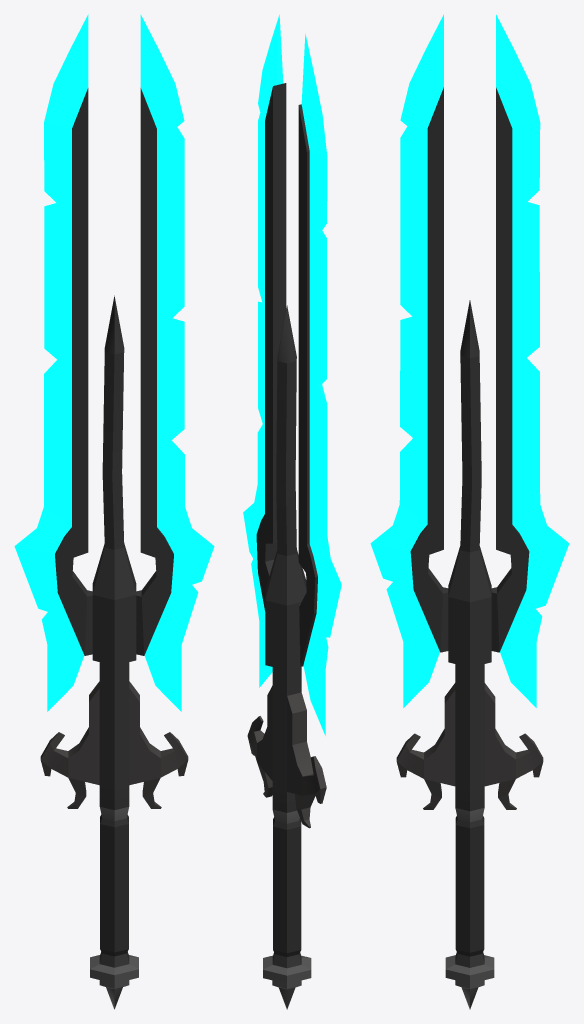
The model's file is SM_Weapon_Crystal_DoubleSword.fbx.
3 views of the same model, side by side, from view 1: azimuth 90°, elevation 25°; view 2: azimuth 210°, elevation 25°; view 3: azimuth 270°, elevation 25° (orthographic).
Parts seen in each view (by area): view 1: SM_Wep_Crystal_DoubleSword_01; view 2: SM_Wep_Crystal_DoubleSword_01; view 3: SM_Wep_Crystal_DoubleSword_01.
Part boxes in pixels (x1,y1,x2,y2): SM_Wep_Crystal_DoubleSword_01: [14, 14, 214, 1009]; SM_Wep_Crystal_DoubleSword_01: [243, 14, 341, 1009]; SM_Wep_Crystal_DoubleSword_01: [370, 14, 569, 1009].
Bounding box in the file's own units: 8.84 × 172 × 31.26.
Materials: 1 (1 with a texture image).
